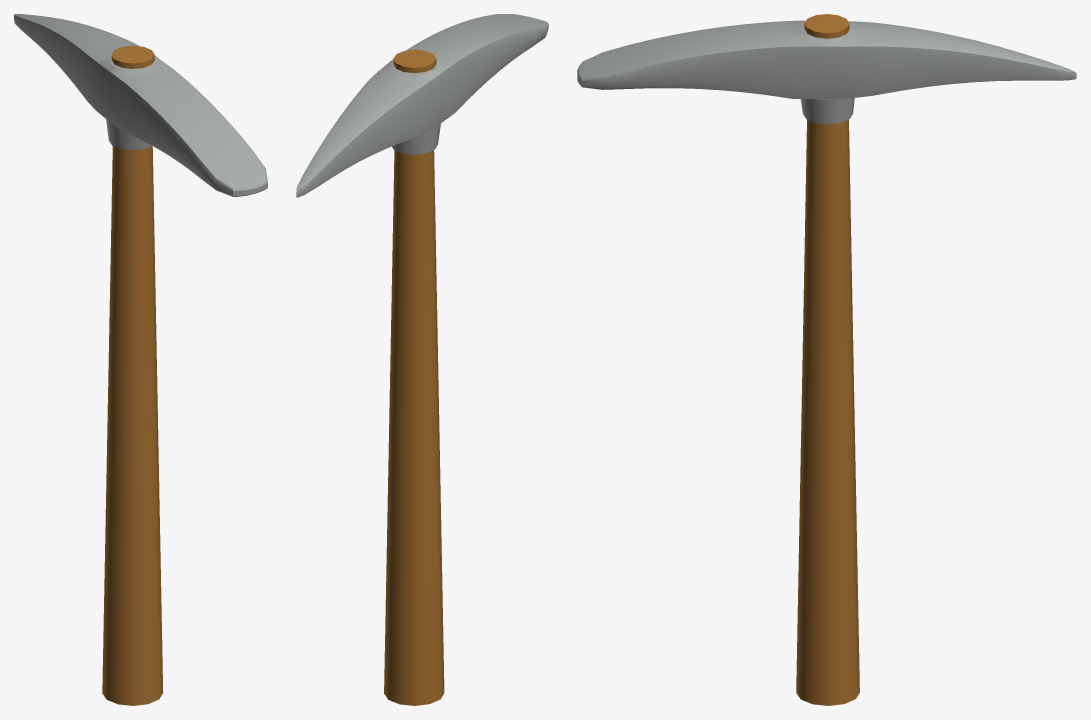
The model's file is Kazma.fbx.
3 views of the same model, side by side, from view 1: azimuth 30°, elevation 25°; view 2: azimuth 150°, elevation 25°; view 3: azimuth 270°, elevation 25° (orthographic). The views are drawn at different scales.
Parts seen in each view (by area): view 1: Kazma; view 2: Kazma; view 3: Kazma.
Part boxes in pixels (x1,y1,x2,y2): Kazma: (14,14,267,705); Kazma: (296,14,548,705); Kazma: (577,14,1076,705).
Bounding box in the file's own units: 16.03 × 186 × 126.
